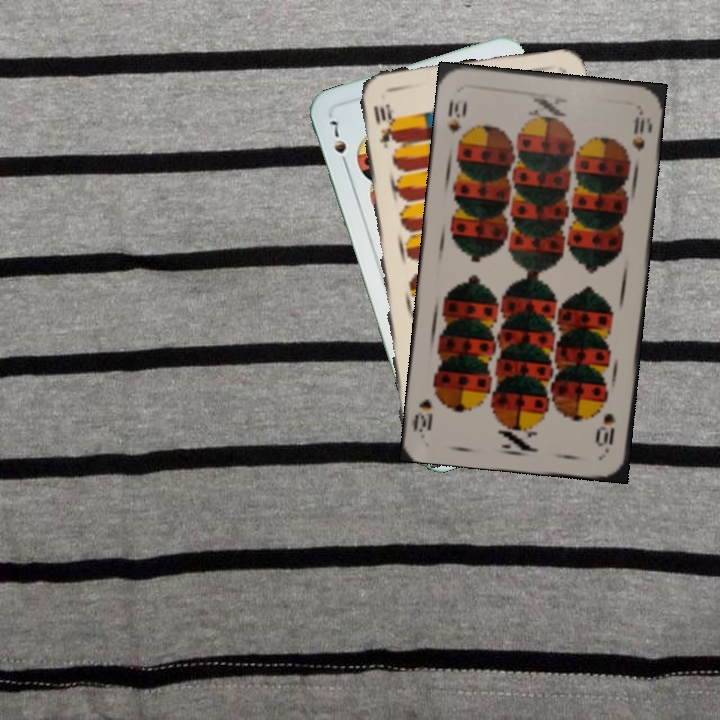E10: (369, 100, 399, 151)
S10: (595, 409, 619, 455), (444, 96, 470, 137)
S7: (326, 116, 351, 171)
